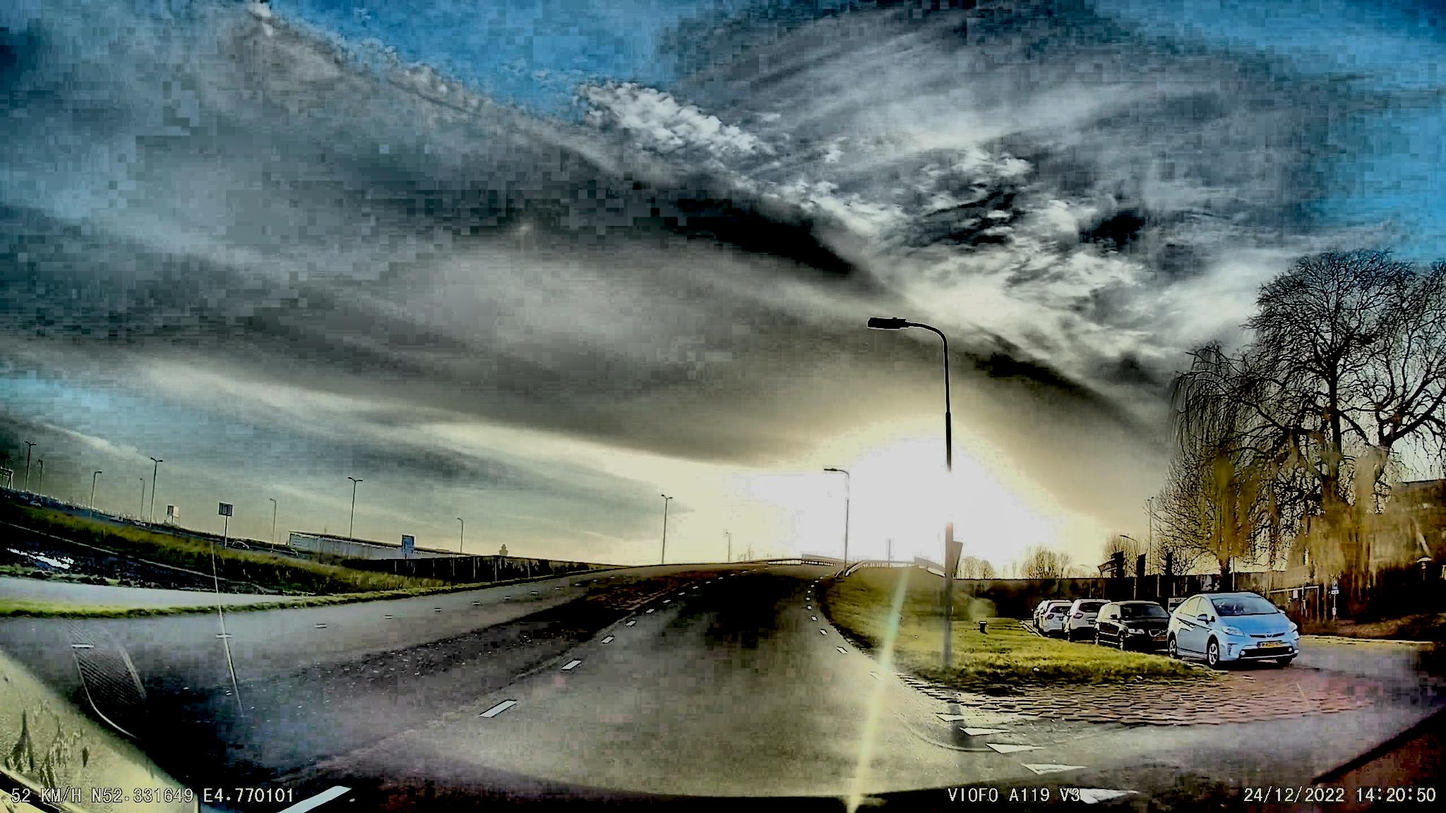Roads: (0, 569, 1446, 813)
